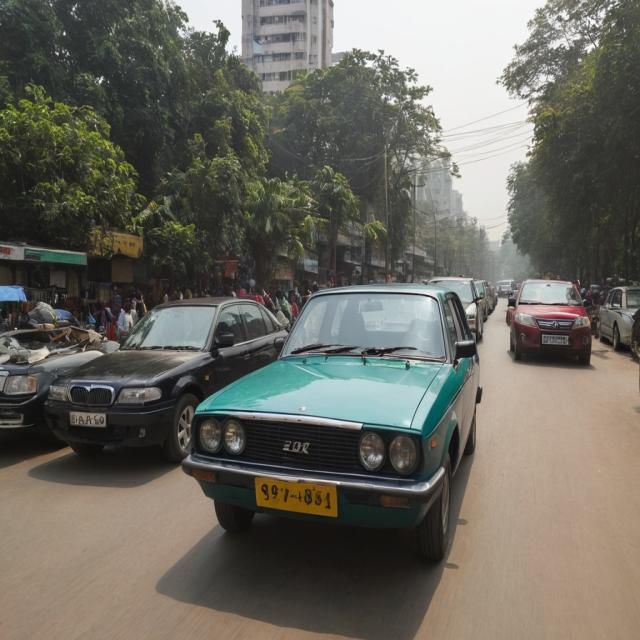black: (48, 283, 302, 475)
green: (204, 286, 488, 558)
red: (507, 278, 600, 370)
silver: (601, 285, 640, 360)
